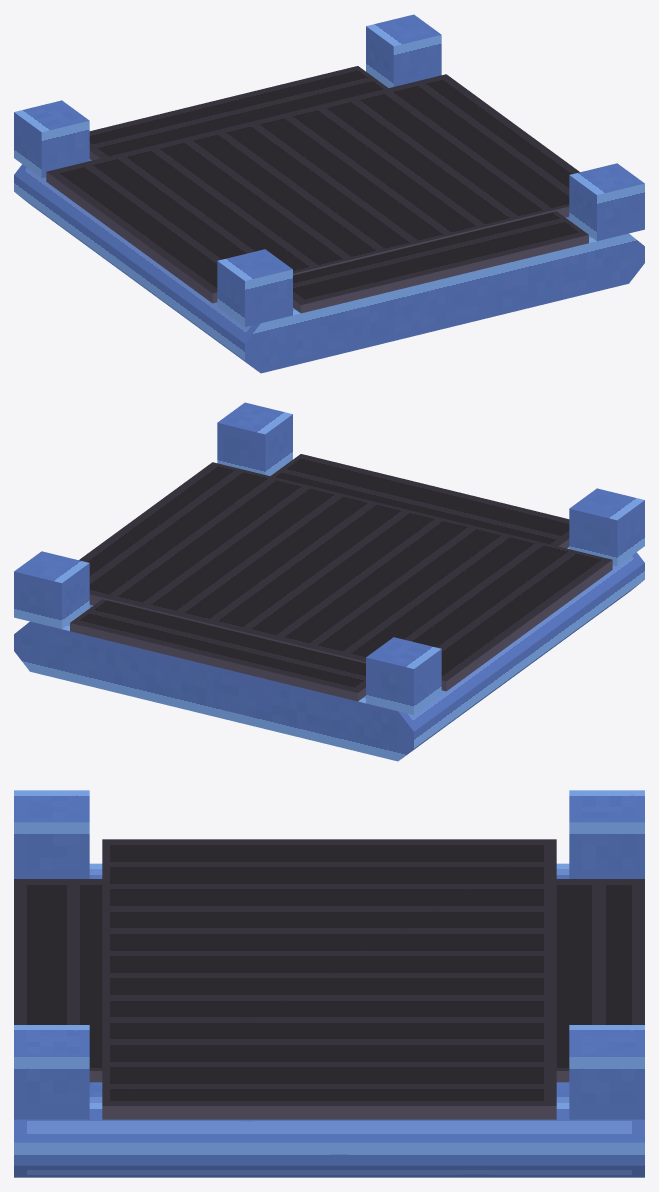
The model's file is belt_cross.glb.
3 renders of one model, top to bottom at view 1: azimuth 30°, elevation 25°; view 2: azimuth 150°, elevation 25°; view 3: azimuth 270°, elevation 25°, orthographic. The views are drawn at different scales.
Visible parts, largest first — view 1: belt_cross_body; view 2: belt_cross_body; view 3: belt_cross_body.
Boxes of the visible parts, x1=… form: belt_cross_body: x1=14, y1=14, x2=644, y2=373; belt_cross_body: x1=14, y1=402, x2=644, y2=761; belt_cross_body: x1=14, y1=790, x2=644, y2=1177.
Bounding box in the file's own units: 1 × 0.29 × 1.
Materials: 1 (1 with a texture image).
